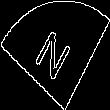N_SW: (32, 23, 78, 87)
